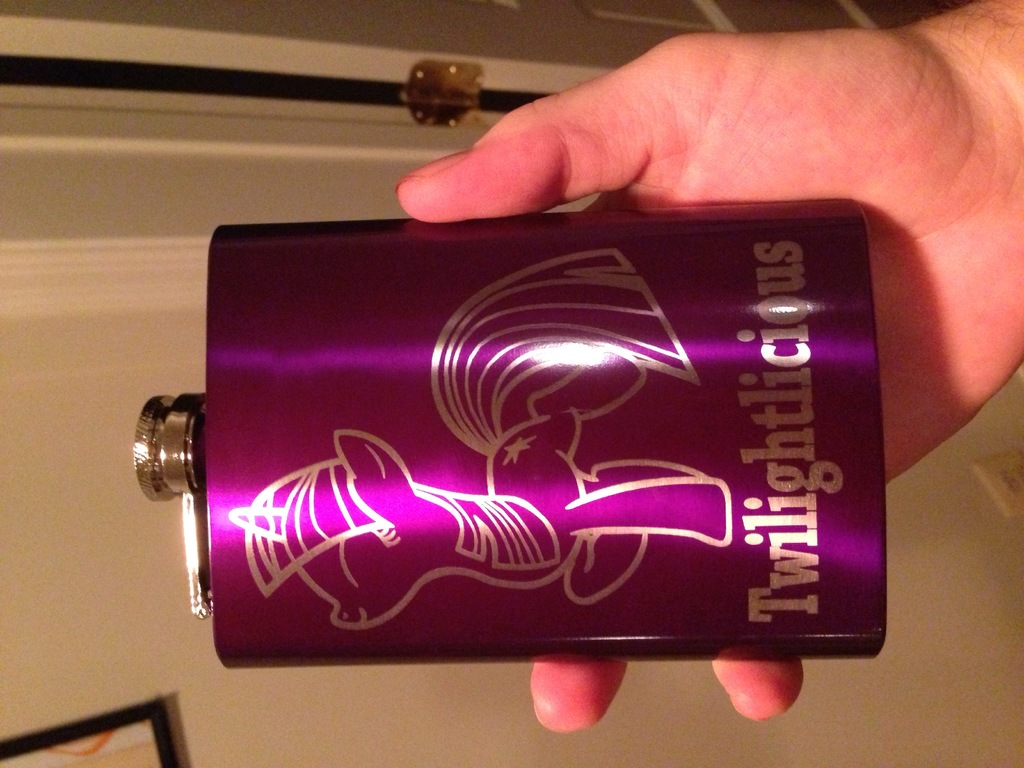Human_hand: (397, 0, 1024, 733)
